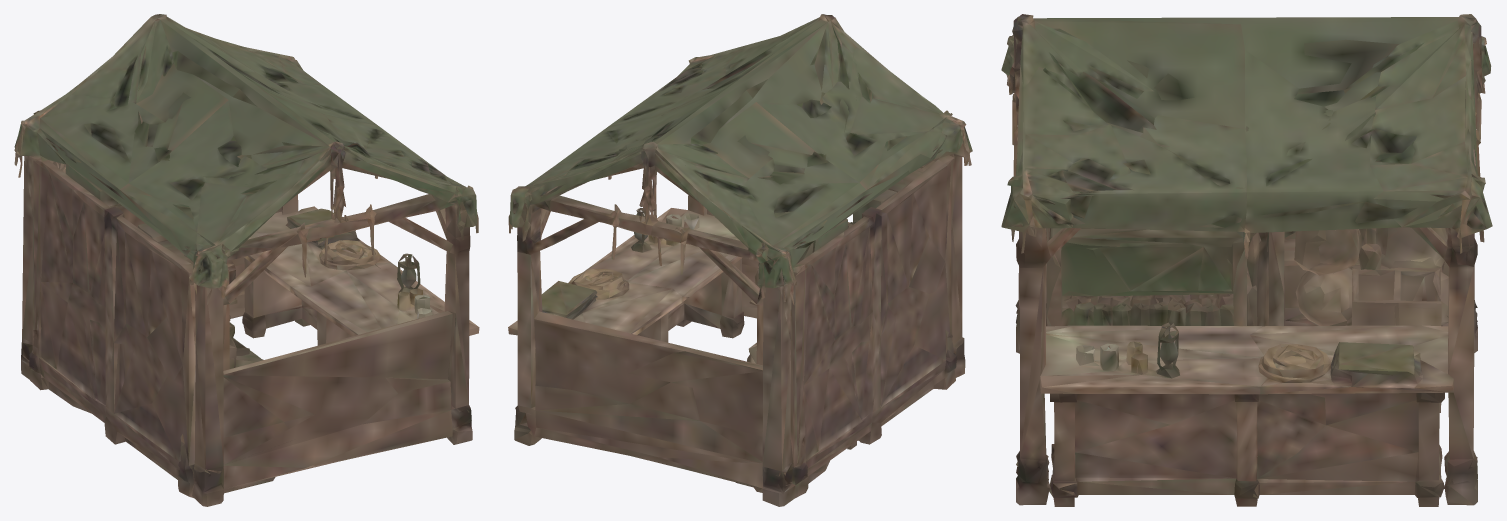
Rendered from trader_stall.9bac4a88cc.glb.
3 views of the same model, side by side, from view 1: azimuth 30°, elevation 25°; view 2: azimuth 150°, elevation 25°; view 3: azimuth 270°, elevation 25° (orthographic). The views are drawn at different scales.
Parts seen in each view (by area): view 1: trader_stall; view 2: trader_stall; view 3: trader_stall.
Part boxes in pixels (<box>): trader_stall: <box>14,14,479,506</box>; trader_stall: <box>508,14,972,506</box>; trader_stall: <box>1001,14,1492,506</box>.
Size of the model in its own units: 2.42 by 2.59 by 2.8.
Materials: 1 (1 with a texture image).
